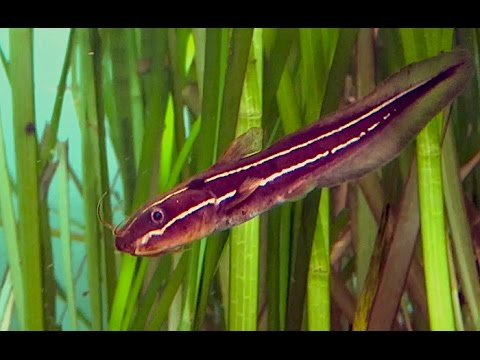gonzui: (100, 44, 474, 262)
